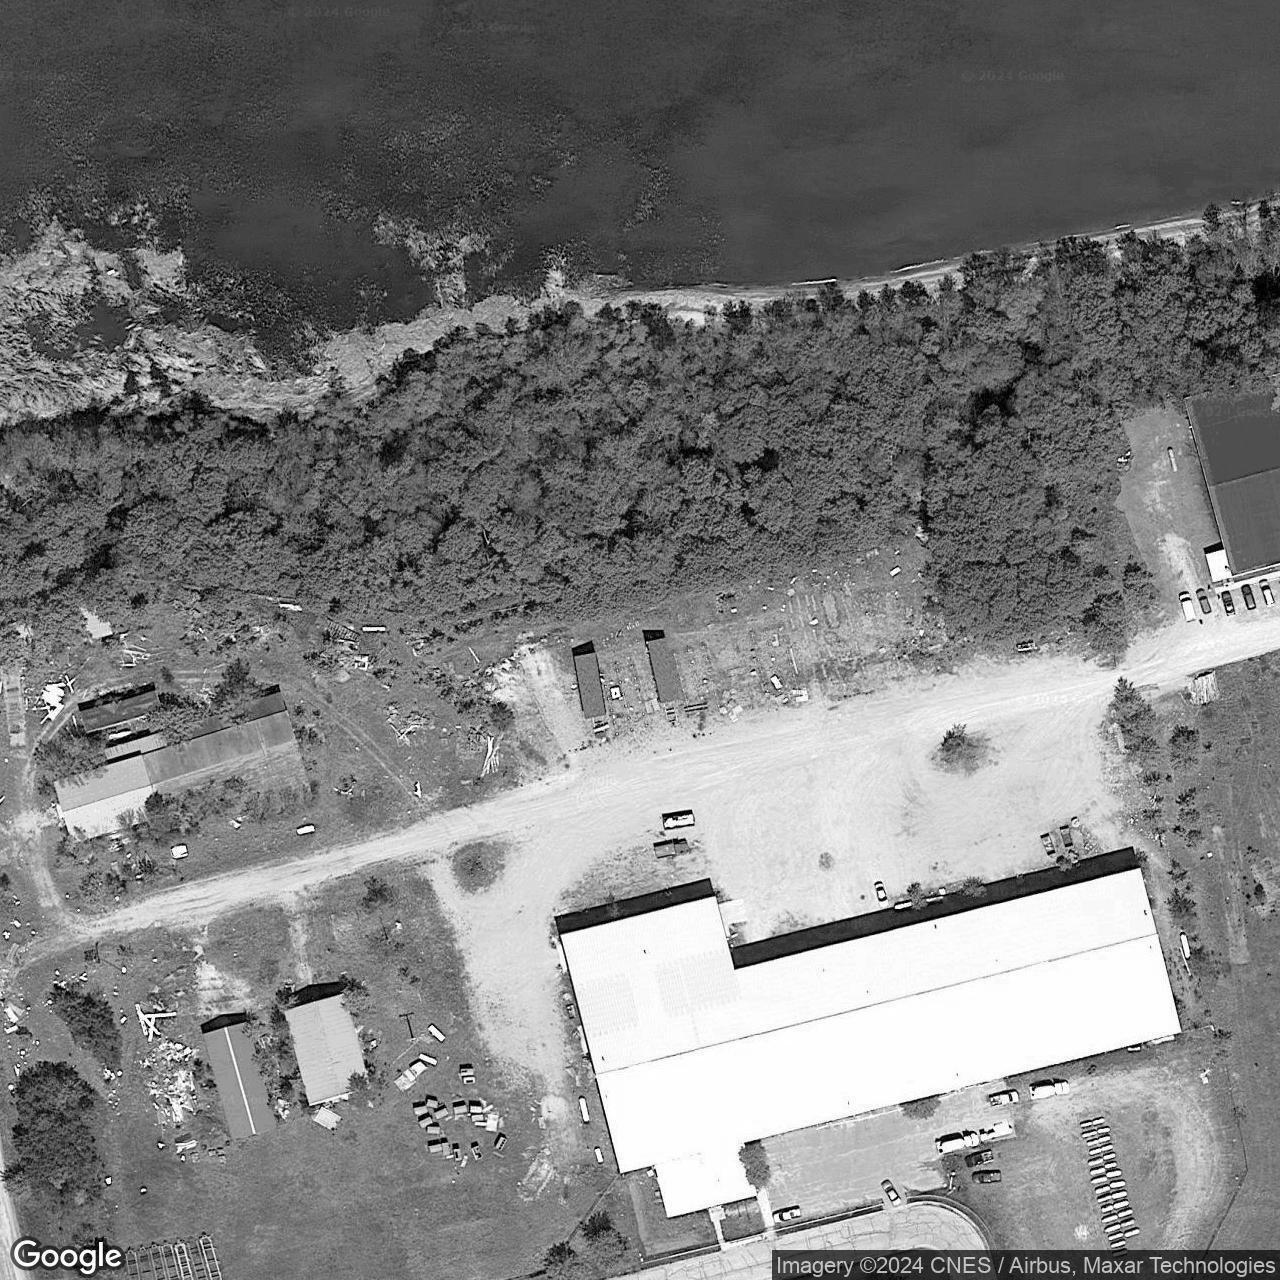Garage: (284, 990, 373, 1109), (203, 1022, 279, 1142)
Other: (557, 869, 1184, 1226), (52, 690, 312, 846), (1184, 370, 1279, 581)
Propane: (577, 1095, 592, 1125), (1166, 445, 1180, 476), (1178, 931, 1192, 961), (1085, 1135, 1111, 1148), (1101, 1212, 1119, 1226), (1104, 1220, 1122, 1234), (1081, 1128, 1098, 1142), (592, 1146, 605, 1165), (1111, 1247, 1130, 1260), (1118, 1206, 1135, 1220), (1095, 1183, 1111, 1197), (1123, 1226, 1141, 1239), (1114, 1198, 1131, 1211), (1090, 1173, 1108, 1186), (921, 894, 945, 904), (1109, 1238, 1128, 1250), (1099, 1201, 1115, 1216), (1107, 1167, 1123, 1180), (1107, 1231, 1124, 1242), (1119, 1217, 1137, 1228), (1089, 1165, 1107, 1177), (896, 900, 914, 911), (1103, 1150, 1117, 1164), (1097, 1192, 1112, 1205), (1112, 1189, 1128, 1201), (1110, 1178, 1126, 1190), (1088, 1156, 1104, 1167), (360, 625, 387, 632), (1104, 1159, 1119, 1171), (1077, 1118, 1092, 1130), (1097, 1124, 1112, 1136), (1088, 1146, 1102, 1158), (1092, 1115, 1107, 1126), (1101, 1142, 1115, 1152)
